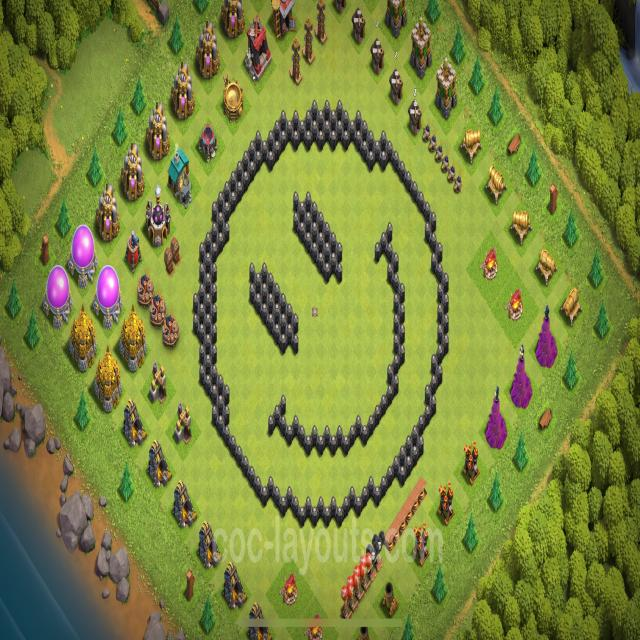air_defense: (411, 520, 432, 568), (123, 229, 143, 277), (461, 439, 481, 486), (436, 480, 455, 529)
archer_tower: (435, 56, 458, 122), (410, 14, 432, 81)
army_camp: (479, 245, 500, 285), (278, 571, 298, 608), (506, 286, 524, 324)
builders_hut: (388, 66, 404, 108), (369, 36, 385, 78), (349, 7, 366, 46), (408, 97, 422, 138)
cannon: (458, 119, 486, 170), (482, 159, 509, 208), (533, 242, 559, 292), (510, 205, 533, 250), (561, 288, 583, 328)
dark_barracks: (243, 14, 272, 82)
dark_elixir_drill: (172, 400, 194, 447), (149, 360, 169, 406)
dark_spell_factory: (197, 121, 219, 164)
elixir_collector: (118, 140, 147, 204), (169, 59, 196, 124), (144, 99, 171, 161), (94, 182, 120, 245), (195, 18, 220, 81)
elixir_storage: (67, 220, 98, 288), (42, 264, 73, 329), (93, 263, 123, 330)
gold_mine: (219, 560, 247, 612), (194, 520, 222, 568), (146, 438, 172, 488), (122, 396, 146, 449), (172, 480, 197, 530)
gold_storage: (91, 342, 124, 415), (120, 303, 148, 374), (69, 304, 97, 371)
laboratory: (144, 184, 172, 250)
mortar: (379, 578, 400, 621)
spell_factory: (219, 70, 245, 126)
wizard_tower: (484, 383, 508, 449), (510, 343, 532, 411), (536, 304, 558, 369)
